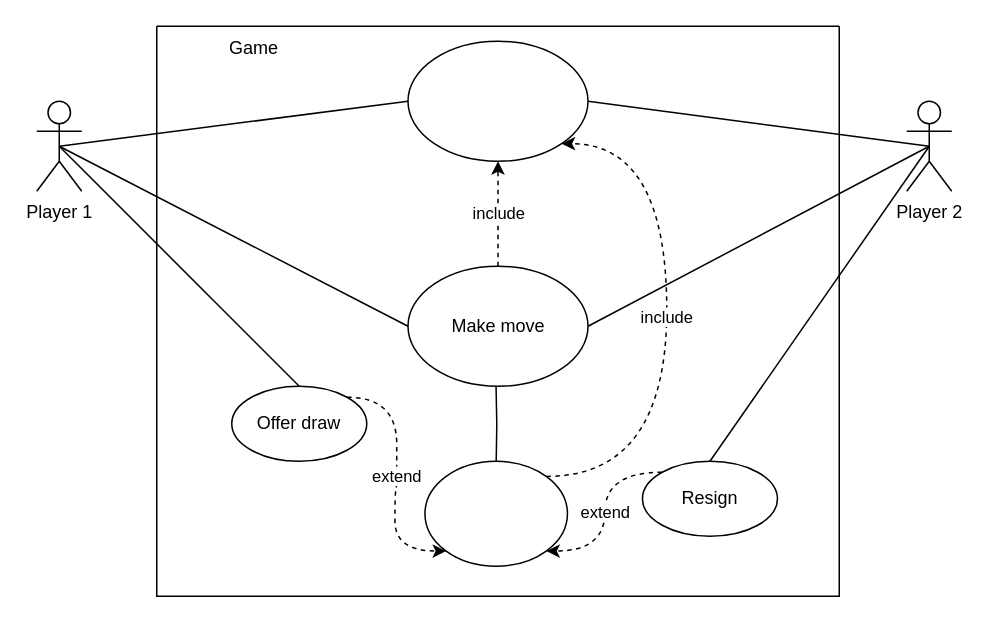
This 987x623 diagram has some shape labels left out. The shapes that lost their labels are listed below. From the top down, each one's centre as x and y in pixels, then its label:
the point at 497,100: Start Game
the point at 495,513: End game
